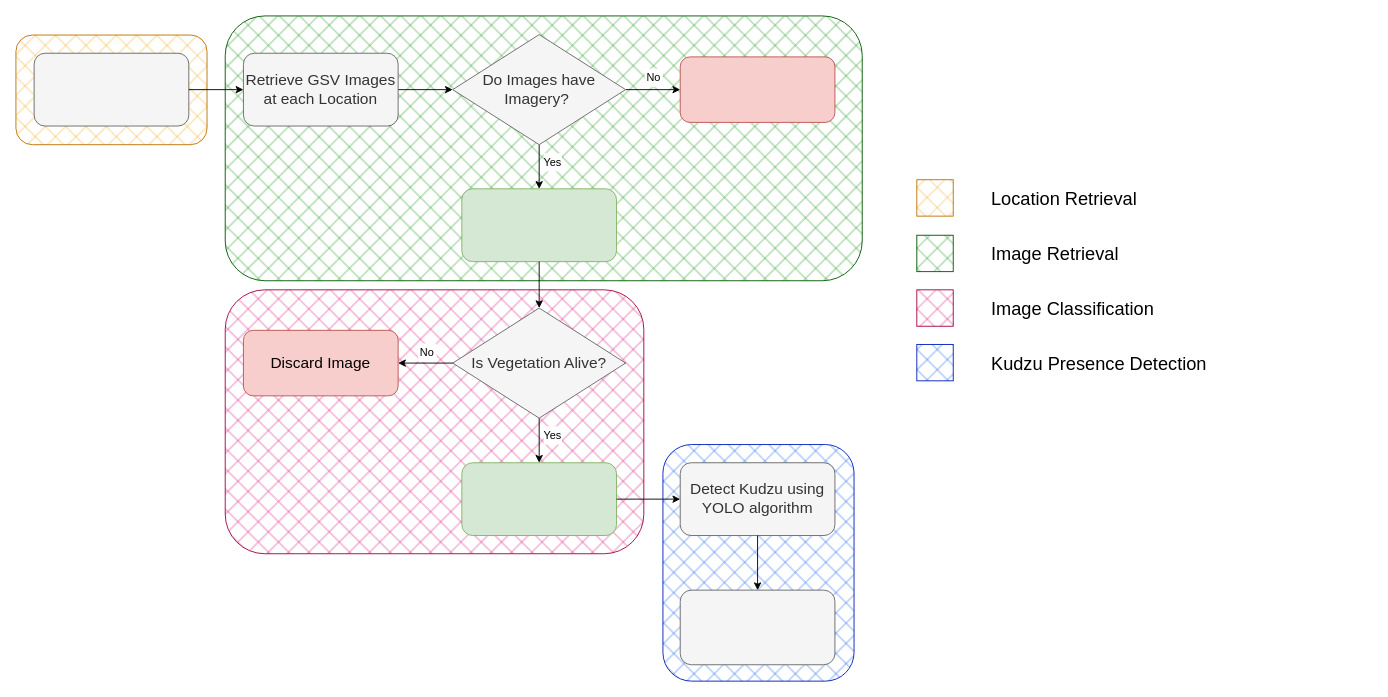
Image size: 1388x697. Some labels were removed from this diagram. Here are the shapes that lost their labels. From the top down, the box of each, then its label:
(33, 52, 189, 126): Obtain Coordiantes of Possible Locations
(679, 56, 835, 122): Discard Location
(461, 188, 617, 262): Save all Images at Location
(461, 462, 617, 536): Save Image
(679, 589, 835, 665): Save Images containing Kudzu
